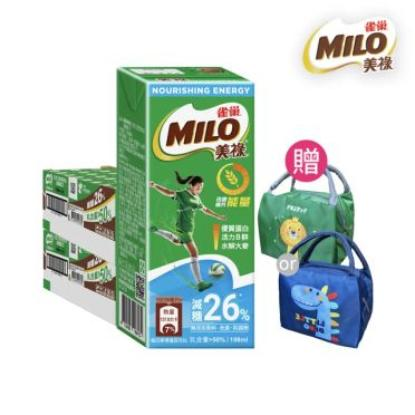Others: (117, 67, 254, 349)
